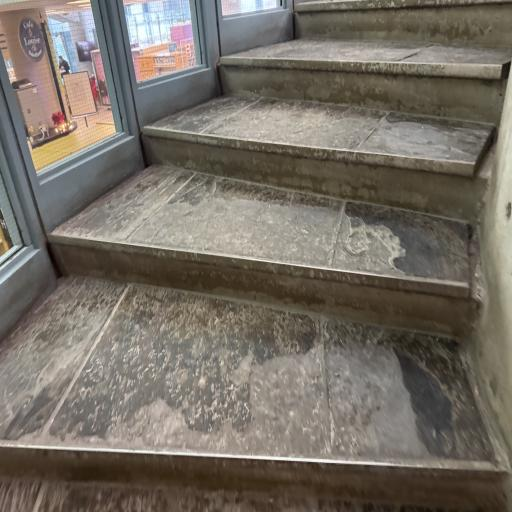Stairs: (0, 0, 512, 512), (0, 277, 507, 512), (49, 166, 476, 335), (143, 96, 495, 220), (220, 4, 512, 124), (294, 0, 512, 46)
